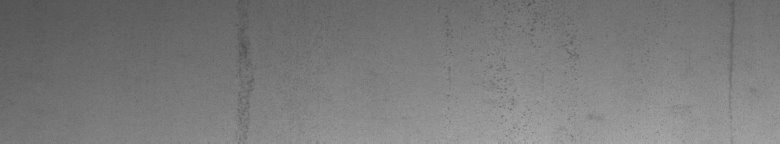ib: (446, 4, 600, 124)
